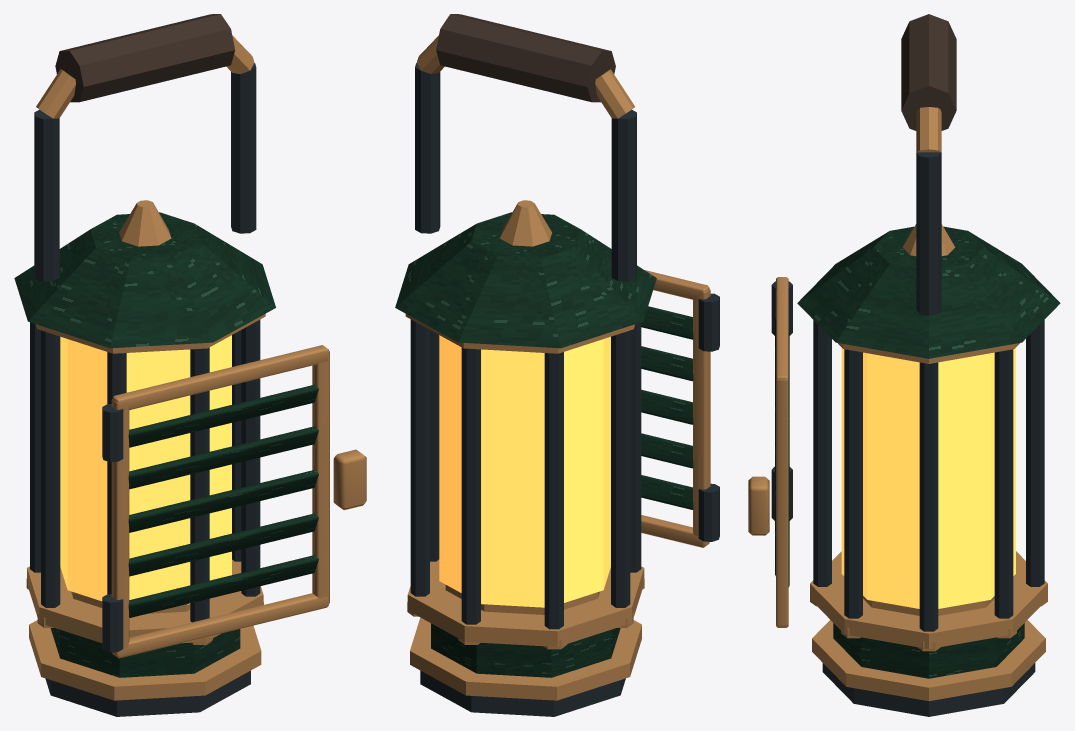
Rendered from sol.glb.
The picture shows the model from 3 angles, left to right: view 1: azimuth 30°, elevation 25°; view 2: azimuth 150°, elevation 25°; view 3: azimuth 270°, elevation 25°; orthographic projection. The views are drawn at different scales.
Visible parts, largest first — view 1: HoneyGlass, Rain cowl, GripWrap, Foot gold lip, Rib 04, Ash cup, Lower brass crown, Bail left, Bail right, Shutter top rail, Shutter right stile, Shutter bottom rail (+19 smaller); view 2: HoneyGlass, Rain cowl, GripWrap, Lower brass crown, Foot gold lip, Rib 03, Rib 02, Rib 04, Rib 01, Ash cup, Bail left, Bail right (+18 smaller); view 3: HoneyGlass, Rain cowl, Lower brass crown, Foot gold lip, GripWrap, Rib 00, Rib 01, Ash cup, Rib 07, Rib 02, Rib 06, Bail right (+9 smaller).
Part boxes in pixels (x1=…): HoneyGlass: x1=60, y1=335, x2=231, y2=604; Rain cowl: x1=14, y1=212, x2=275, y2=348; GripWrap: x1=55, y1=14, x2=234, y2=102; Foot gold lip: x1=29, y1=620, x2=261, y2=700; Rib 04: x1=41, y1=330, x2=60, y2=607; Ash cup: x1=50, y1=628, x2=240, y2=677; Lower brass crown: x1=27, y1=559, x2=263, y2=643; Bail left: x1=34, y1=109, x2=59, y2=281; Bail right: x1=231, y1=63, x2=256, y2=233; Shutter top rail: x1=112, y1=345, x2=328, y2=410; Shutter right stile: x1=312, y1=351, x2=329, y2=604; Shutter bottom rail: x1=112, y1=593, x2=328, y2=658; HoneyGlass: x1=439, y1=335, x2=610, y2=607; Rain cowl: x1=395, y1=212, x2=656, y2=348; GripWrap: x1=436, y1=14, x2=615, y2=102; Lower brass crown: x1=407, y1=559, x2=644, y2=646; Foot gold lip: x1=410, y1=617, x2=641, y2=700; Rib 03: x1=544, y1=352, x2=563, y2=629; Rib 02: x1=461, y1=347, x2=480, y2=624; Rib 04: x1=611, y1=330, x2=630, y2=607; Rib 01: x1=410, y1=319, x2=429, y2=596; Ash cup: x1=431, y1=623, x2=620, y2=677; Bail left: x1=611, y1=109, x2=636, y2=281; Bail right: x1=415, y1=63, x2=440, y2=233; HoneyGlass: x1=841, y1=348, x2=1015, y2=608; Rain cowl: x1=797, y1=226, x2=1060, y2=358; Lower brass crown: x1=810, y1=551, x2=1047, y2=648; Foot gold lip: x1=812, y1=620, x2=1045, y2=701; GripWrap: x1=901, y1=14, x2=956, y2=130; Rib 00: x1=919, y1=362, x2=938, y2=631; Rib 01: x1=994, y1=349, x2=1013, y2=618; Ash cup: x1=833, y1=623, x2=1024, y2=678; Rib 07: x1=844, y1=349, x2=862, y2=618; Rib 02: x1=1026, y1=320, x2=1044, y2=586; Rib 06: x1=813, y1=320, x2=831, y2=586; Bail right: x1=916, y1=152, x2=941, y2=315.
Bounding box in the file's own units: 0.131 × 0.323 × 0.147.
Materials: 6 (1 with a texture image).
